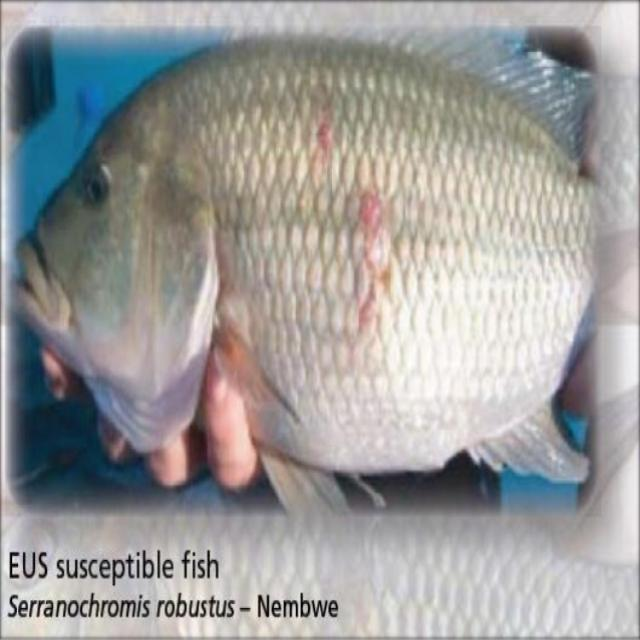EUS Disease: (13, 37, 599, 510), (269, 62, 447, 440)
